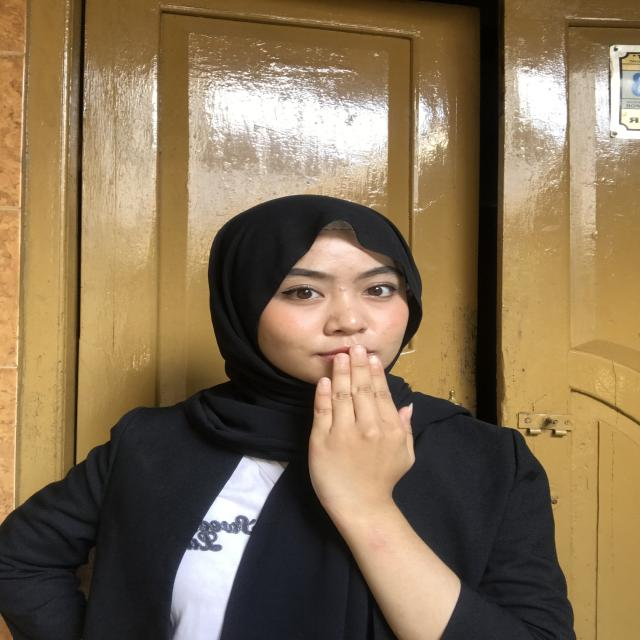ganteng: (298, 344, 441, 535)
